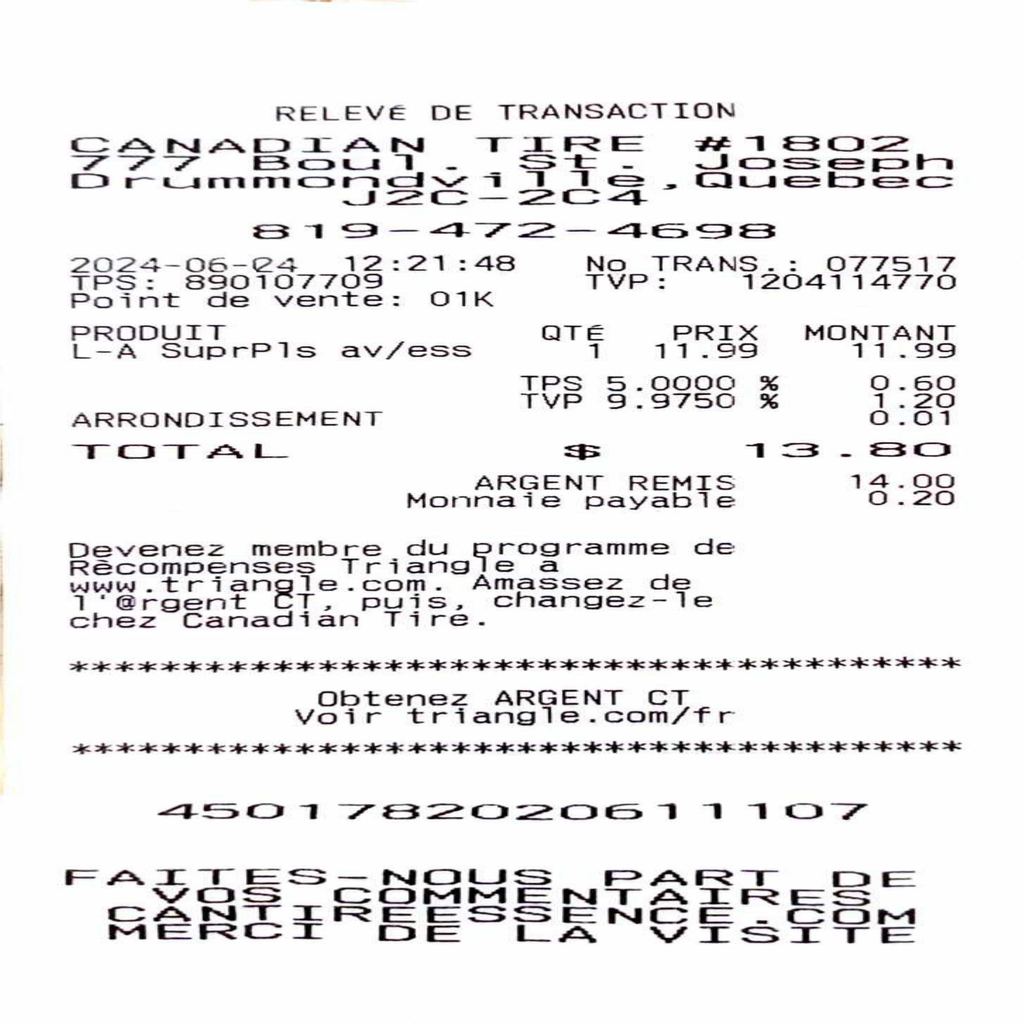recipt: (4, 0, 1020, 1018)
